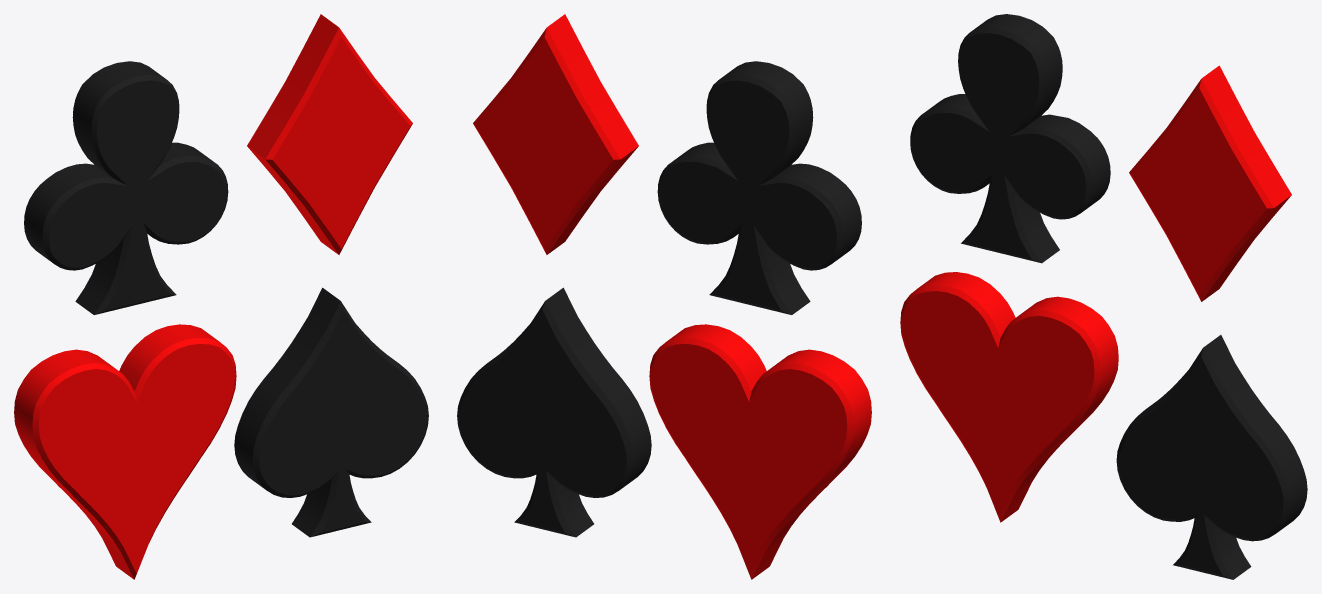
File: card_deck_suits.glb
3 views of the same model, side by side, from view 1: azimuth 30°, elevation 25°; view 2: azimuth 150°, elevation 25°; view 3: azimuth 330°, elevation 25° (orthographic).
Parts seen in each view (by area): view 1: Cube_Black_0, Cube_Red_0; view 2: Cube_Black_0, Cube_Red_0; view 3: Cube_Black_0, Cube_Red_0.
Boxes of the visible parts, x1,y1,x2,y2 form: Cube_Black_0: (24,61,428,537); Cube_Red_0: (14,14,412,579); Cube_Black_0: (457,61,861,537); Cube_Red_0: (473,14,871,579); Cube_Black_0: (910,14,1307,579); Cube_Red_0: (900,65,1291,522).
Bounding box in the file's own units: 998 × 1211 × 100.
